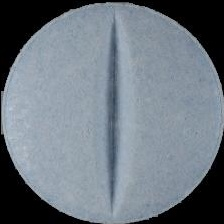0615-6571: (0, 0, 224, 224)
